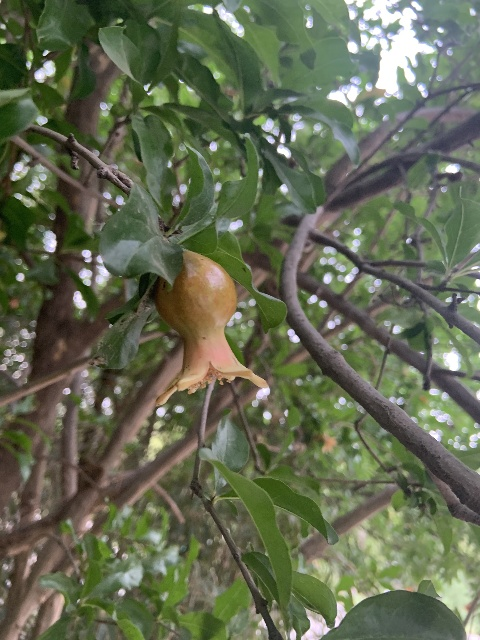early-fruit: (151, 250, 269, 403)
